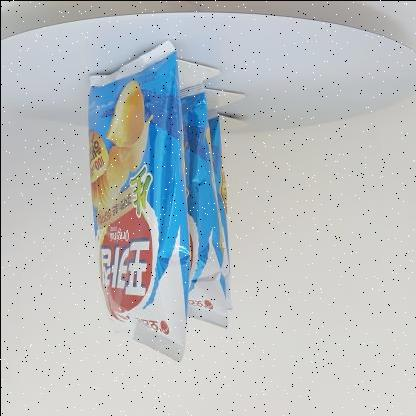Others: (46, 28, 245, 380)
